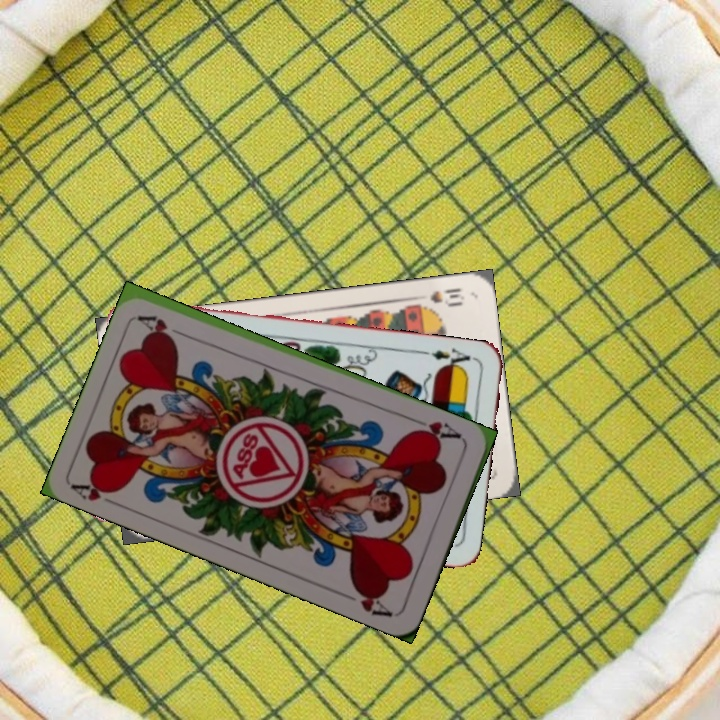EA: (427, 344, 478, 373)
HA: (69, 475, 126, 508), (409, 414, 466, 445)
S10: (426, 284, 467, 309)
